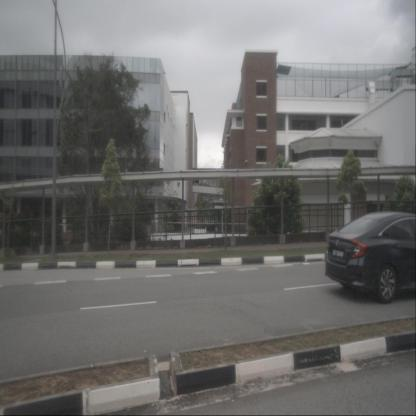vehicle-car: (325, 210, 416, 304)
